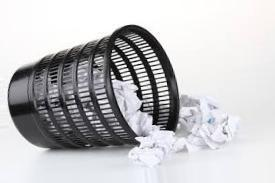Bote de Basura: (8, 23, 237, 157)
